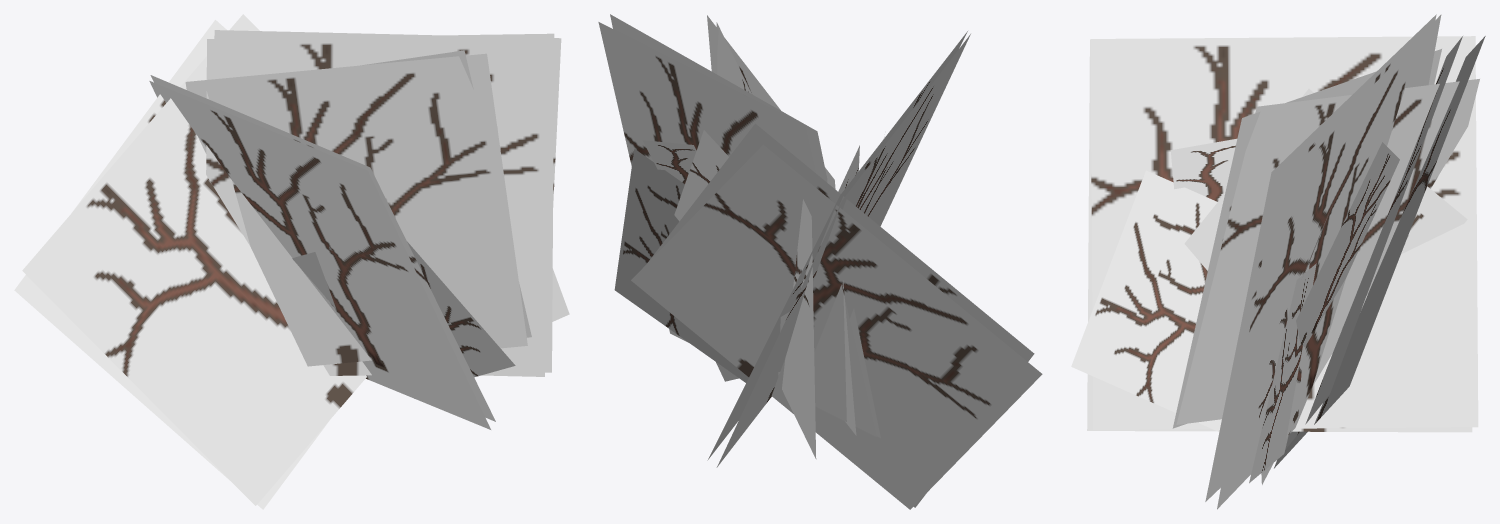
Rendered from ST_Dead_Bush.fbx.
3 renders of one model, left to right at view 1: azimuth 30°, elevation 25°; view 2: azimuth 150°, elevation 25°; view 3: azimuth 270°, elevation 25°, orthographic. The views are drawn at different scales.
Parts seen in each view (by area): view 1: Dead_bush; view 2: Dead_bush; view 3: Dead_bush.
Part boxes in pixels (left/top/right/bottom): Dead_bush: left=14, top=14, right=569, bottom=509; Dead_bush: left=598, top=14, right=1042, bottom=509; Dead_bush: left=1071, top=14, right=1485, bottom=509.
Bounding box in the file's own units: 153 × 126 × 101.
